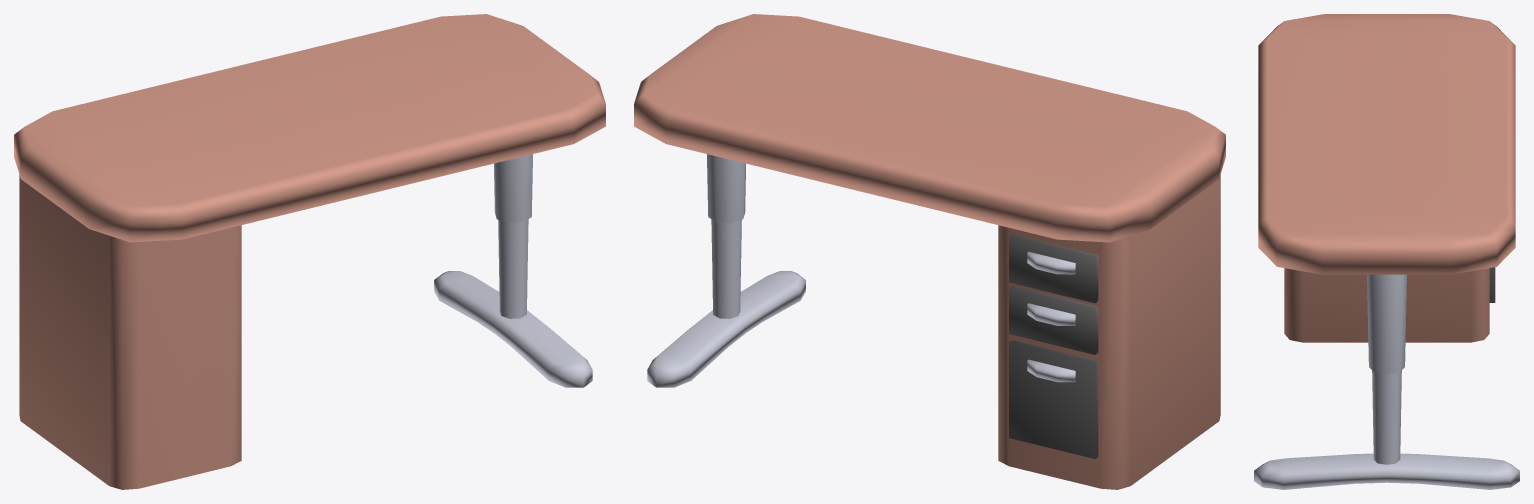
Rendered from desk_01.glb.
3 views of the same model, side by side, from view 1: azimuth 30°, elevation 25°; view 2: azimuth 150°, elevation 25°; view 3: azimuth 270°, elevation 25° (orthographic). The views are drawn at different scales.
Visible parts, largest first — view 1: mesh_desk_01; view 2: mesh_desk_01; view 3: mesh_desk_01.
Boxes of the visible parts, x1,y1,x2,y2 form: mesh_desk_01: (14,14,605,489); mesh_desk_01: (634,14,1225,489); mesh_desk_01: (1254,14,1519,489).
Bounding box in the file's own units: 1.87 × 0.9942 × 0.8946.
